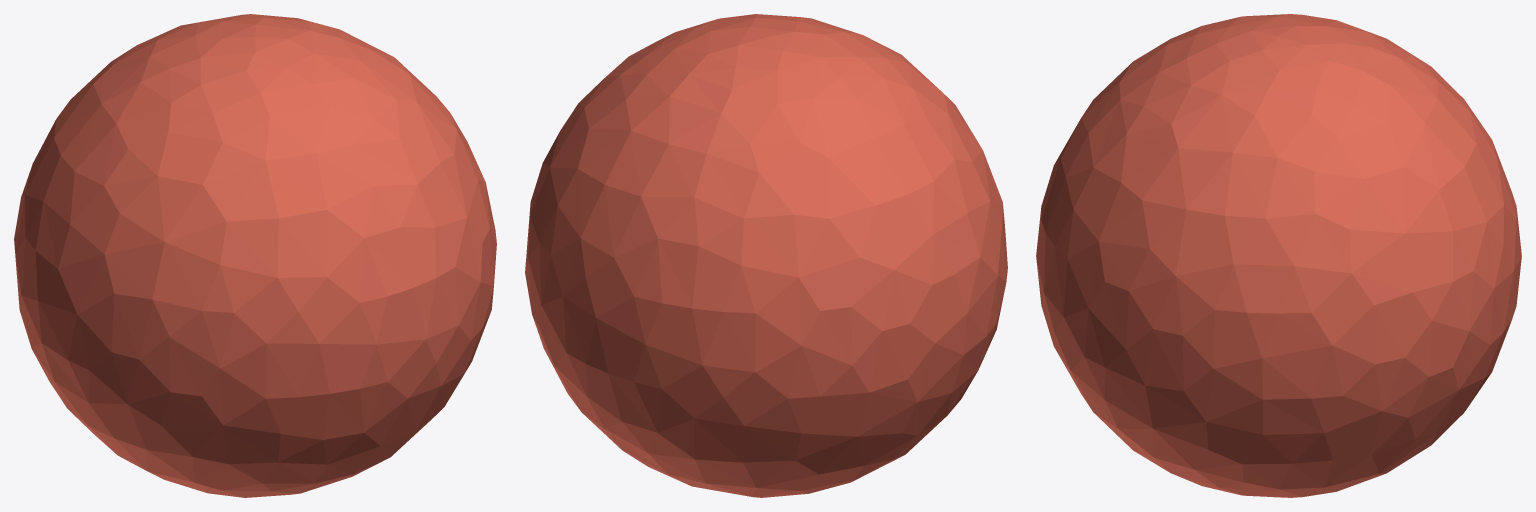
The model's file is hum_15_throw_props.glb.
3 renders of one model, left to right at view 1: azimuth 30°, elevation 25°; view 2: azimuth 150°, elevation 25°; view 3: azimuth 270°, elevation 25°, orthographic.
Parts seen in each view (by area): view 1: o00; view 2: o00; view 3: o00.
Boxes of the visible parts, <box> form: o00: <box>14,14,496,497</box>; o00: <box>525,14,1007,497</box>; o00: <box>1036,14,1521,497</box>.
Bounding box in the file's own units: 0.067 × 0.067 × 0.0672.
